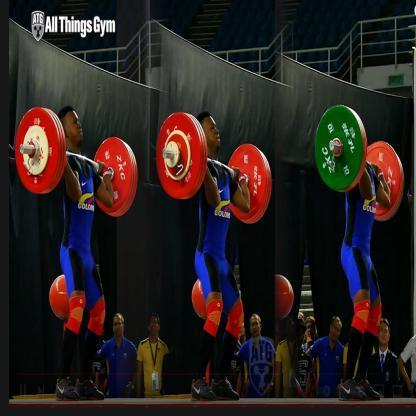barbell: (14, 104, 140, 216), (154, 109, 272, 223), (313, 103, 406, 223)
